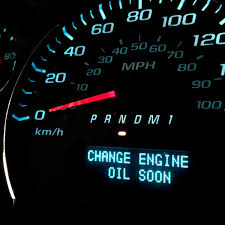Digital_Meter: (81, 143, 201, 195)
